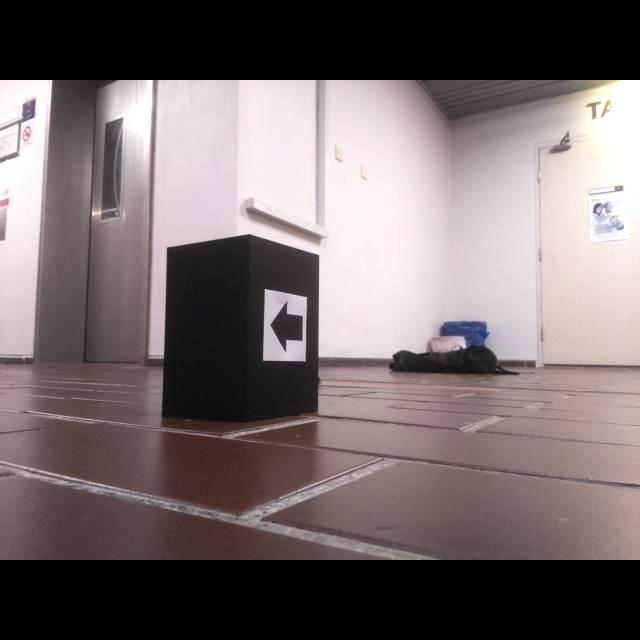LEFT: (269, 300, 303, 354)
